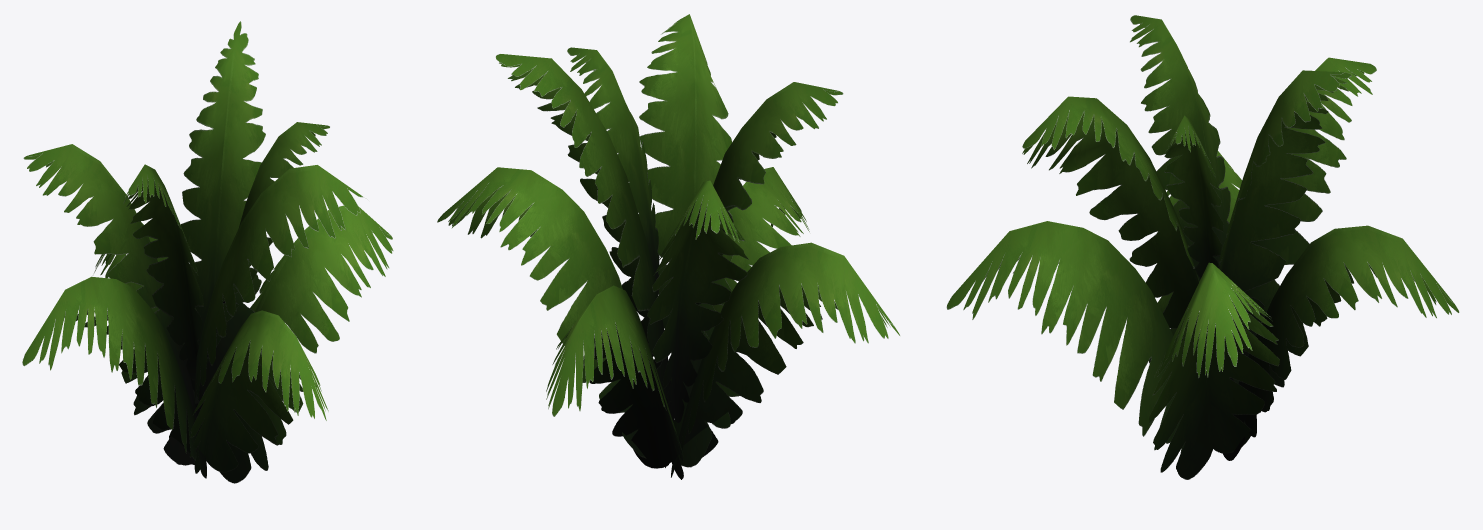
The model's file is fern.glb.
The picture shows the model from 3 angles, left to right: view 1: azimuth 30°, elevation 25°; view 2: azimuth 150°, elevation 25°; view 3: azimuth 270°, elevation 25°; orthographic projection. The views are drawn at different scales.
Visible parts, largest first — view 1: Fern_1; view 2: Fern_1; view 3: Fern_1.
Boxes of the visible parts, <box> form: Fern_1: <box>22,21,393,483</box>; Fern_1: <box>437,14,900,479</box>; Fern_1: <box>946,15,1459,479</box>.
Bounding box in the file's own units: 1 × 1 × 1.
Materials: 1 (1 with a texture image).
